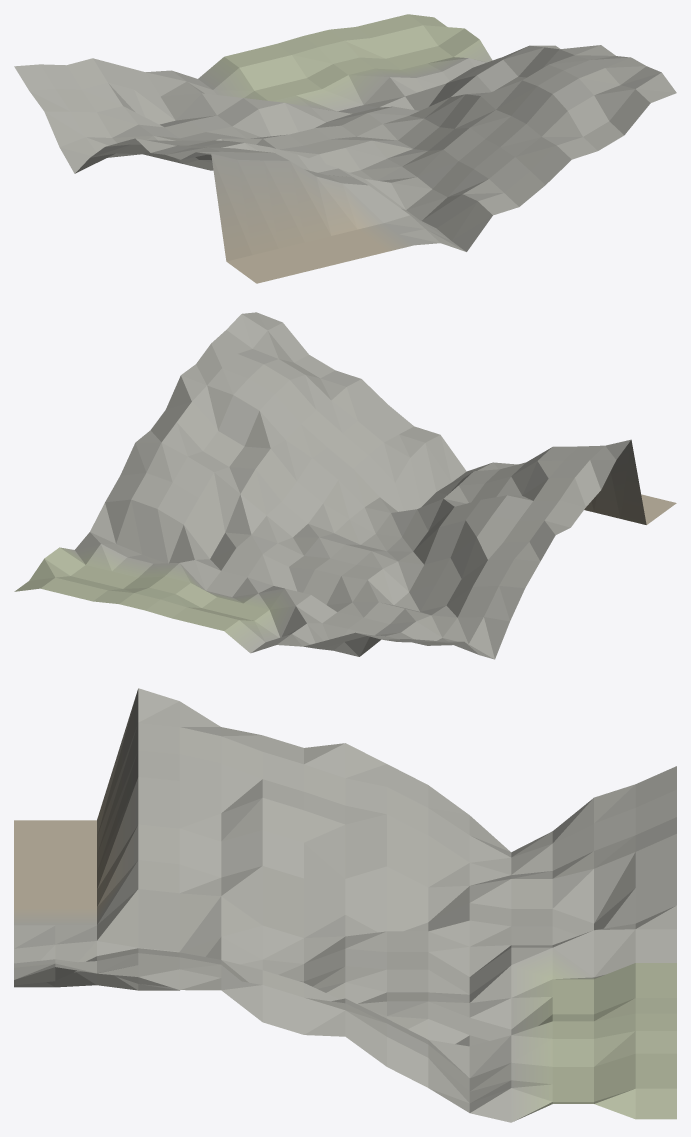
The picture shows the model from 3 angles, top to bottom: view 1: azimuth 30°, elevation 25°; view 2: azimuth 150°, elevation 25°; view 3: azimuth 270°, elevation 25°; orthographic projection. The views are drawn at different scales.
Bounding box in the file's own units: 32 × 8.94 × 32.
